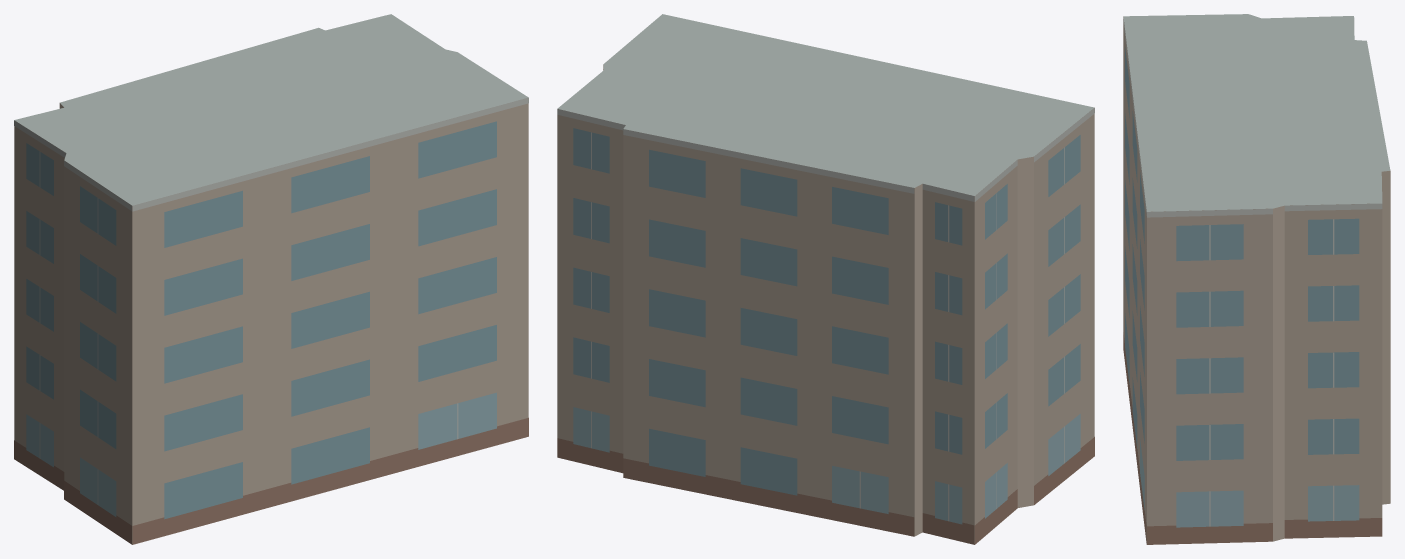
File: survey-upis-33041026.glb
3 renders of one model, left to right at view 1: azimuth 30°, elevation 25°; view 2: azimuth 150°, elevation 25°; view 3: azimuth 270°, elevation 25°, orthographic. The views are drawn at different scales.
Visible parts, largest first — view 1: survey-upis-33041026.tmp; view 2: survey-upis-33041026.tmp; view 3: survey-upis-33041026.tmp.
Boxes of the visible parts, x1,y1,x2,y2 form: survey-upis-33041026.tmp: (14,14,528,544); survey-upis-33041026.tmp: (557,14,1094,544); survey-upis-33041026.tmp: (1123,14,1390,544).
Size of the model in its own units: 18.23 by 14.3 by 10.4.
